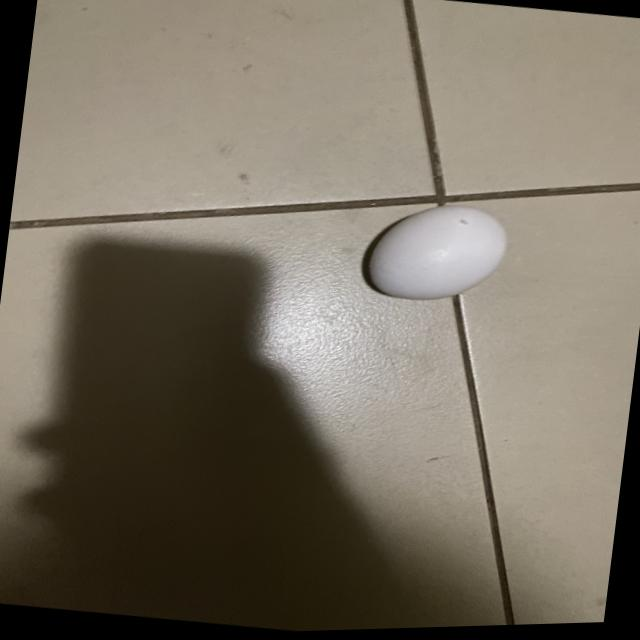egg: (354, 189, 518, 316)
